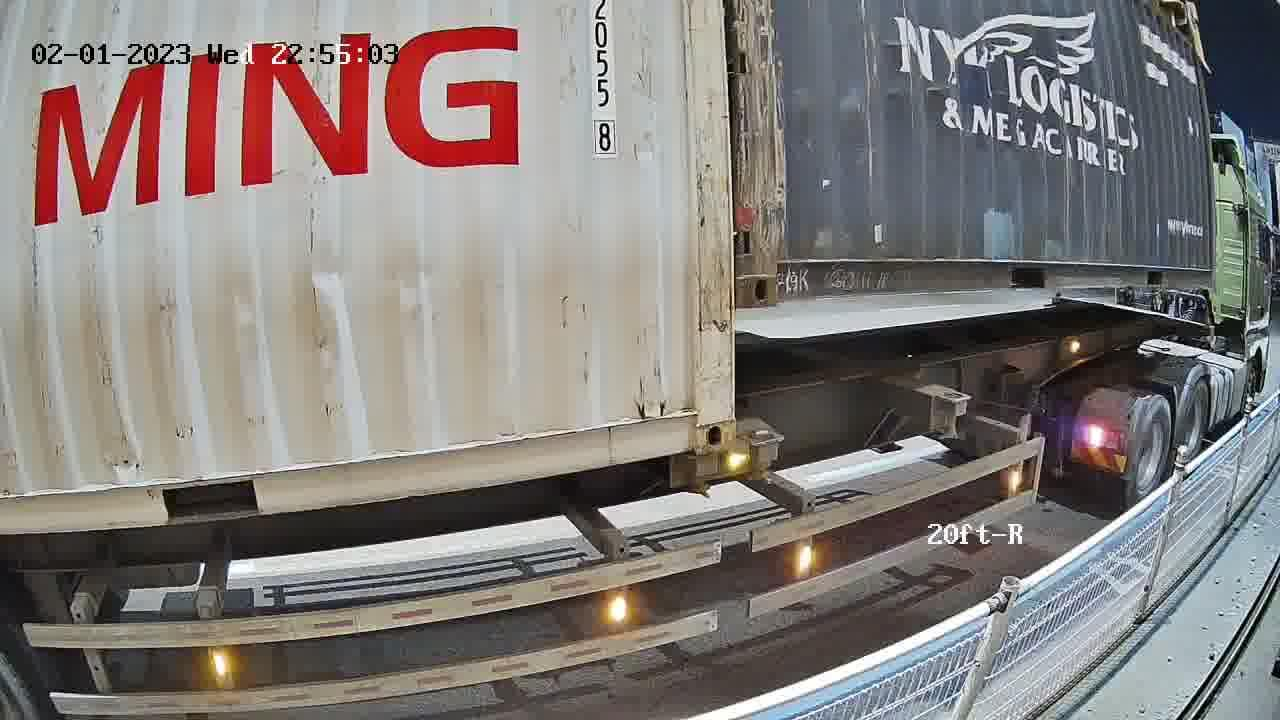Cone: (744, 426, 789, 485), (685, 449, 727, 498)
Hole_L: (739, 223, 816, 307)
Hole_R: (653, 367, 736, 458)
Tire: (1132, 398, 1171, 501), (1175, 380, 1209, 464)
